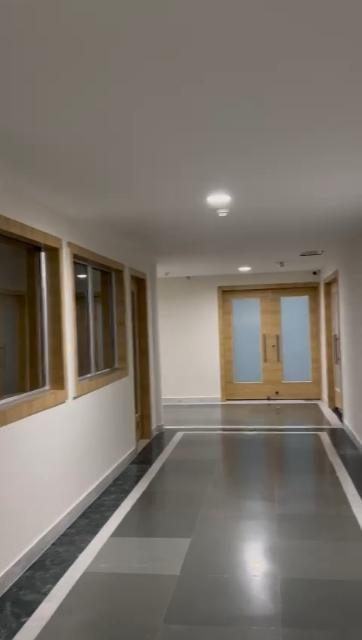door: (218, 289, 320, 396), (132, 267, 152, 437), (324, 281, 342, 407)
floor: (4, 397, 362, 640)
wall: (0, 381, 135, 573), (0, 180, 163, 273), (154, 264, 215, 404), (340, 229, 358, 439)
